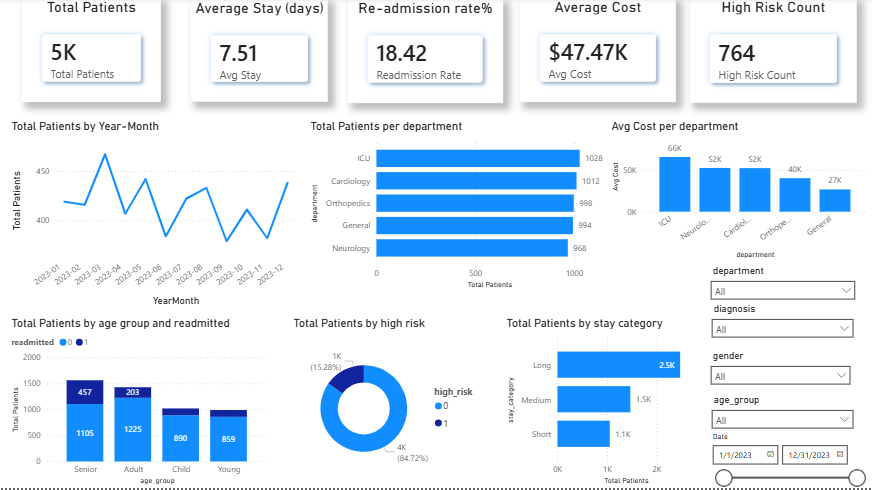

The dashboard page shown, as its layout file describes it:
{"tool":"powerbi","page":{"name":"Hospital Efficiency & Patient Analytics Dashboard","canvas":[1280,720],"ordinal":0},"visuals":[{"type":"cardVisual","title":"Total Patients","fields":{"Data":["patients.Total Patients"]},"box":[32.3,0,204.2,152.8],"z":0},{"type":"cardVisual","title":"Average Stay (days)","fields":{"Data":["patients.Avg Stay"]},"box":[280.7,1.5,201.3,151.3],"z":1000},{"type":"cardVisual","title":"Re-admission rate%","fields":{"Data":["patients.Readmission Rate"]},"box":[511.3,1.5,227.8,152.8],"z":2000},{"type":"cardVisual","title":"Average Cost","fields":{"Data":["patients.Avg Cost"]},"box":[764.1,0,229.2,152.8],"z":3000},{"type":"cardVisual","title":"High Risk Count","fields":{"Data":["patients.High Risk Count"]},"box":[1013.9,0,245.4,154.3],"z":4000},{"type":"lineChart","title":"Total Patients by Year-Month","fields":{"Category":["DateTable.YearMonth","DateTable.MonthNum"],"Y":["patients.Total Patients"]},"box":[11.8,177.8,427.6,279.2],"z":5000},{"type":"barChart","title":"Total Patients per department","fields":{"Category":["patients.department"],"Y":["patients.Total Patients"]},"box":[451.1,177.8,454,254.2],"z":6000},{"type":"columnChart","title":"Avg Cost per department","fields":{"Category":["patients.department"],"Y":["patients.Avg Cost"]},"box":[893.4,177.8,386.4,210.1],"z":7000},{"type":"columnChart","title":"Total Patients by age group and readmitted","fields":{"Category":["patients.age_group"],"Y":["patients.Total Patients"],"Series":["patients.readmitted"]},"box":[11.8,467.3,386.4,252.7],"z":8000},{"type":"donutChart","title":"Total Patients by high risk","fields":{"Category":["patients.high_risk"],"Y":["patients.Total Patients"]},"box":[426.1,467.3,290.9,252.7],"z":9000},{"type":"barChart","title":"Total Patients by stay category","fields":{"Y":["patients.Total Patients"],"Category":["patients.stay_category"]},"box":[739.1,467.3,295.3,252.7],"z":10000},{"type":"slicer","fields":{"Values":["patients.department"]},"box":[1034.4,387.9,232.2,55.8],"z":11000},{"type":"slicer","fields":{"Values":["patients.diagnosis"]},"box":[1035.9,443.8,227.8,69.1],"z":12000},{"type":"slicer","fields":{"Values":["patients.gender"]},"box":[1034.4,512.8,224.8,64.7],"z":13000},{"type":"slicer","fields":{"Values":["patients.age_group"]},"box":[1035.9,577.5,227.8,55.8],"z":14000},{"type":"slicer","fields":{"Values":["DateTable.Date"]},"box":[1034.4,633.3,245.4,86.7],"z":15000}]}

Visuals, with their boxes in screenshot pixels (x1, y1, x2, y2), scaled from the page's 1280x720 canvas onto the 872x490 screenshot:
"Total Patients" cardVisual: [22,0,161,104]
"Average Stay (days)" cardVisual: [191,1,328,104]
"Re-admission rate%" cardVisual: [348,1,504,105]
"Average Cost" cardVisual: [521,0,677,104]
"High Risk Count" cardVisual: [691,0,858,105]
"Total Patients by Year-Month" lineChart: [8,121,299,311]
"Total Patients per department" barChart: [307,121,617,294]
"Avg Cost per department" columnChart: [609,121,871,264]
"Total Patients by age group and readmitted" columnChart: [8,318,271,489]
"Total Patients by high risk" donutChart: [290,318,488,489]
"Total Patients by stay category" barChart: [504,318,705,489]
slicer - patients.department: [705,264,863,302]
slicer - patients.diagnosis: [706,302,861,349]
slicer - patients.gender: [705,349,858,393]
slicer - patients.age_group: [706,393,861,431]
slicer - DateTable.Date: [705,431,871,489]
